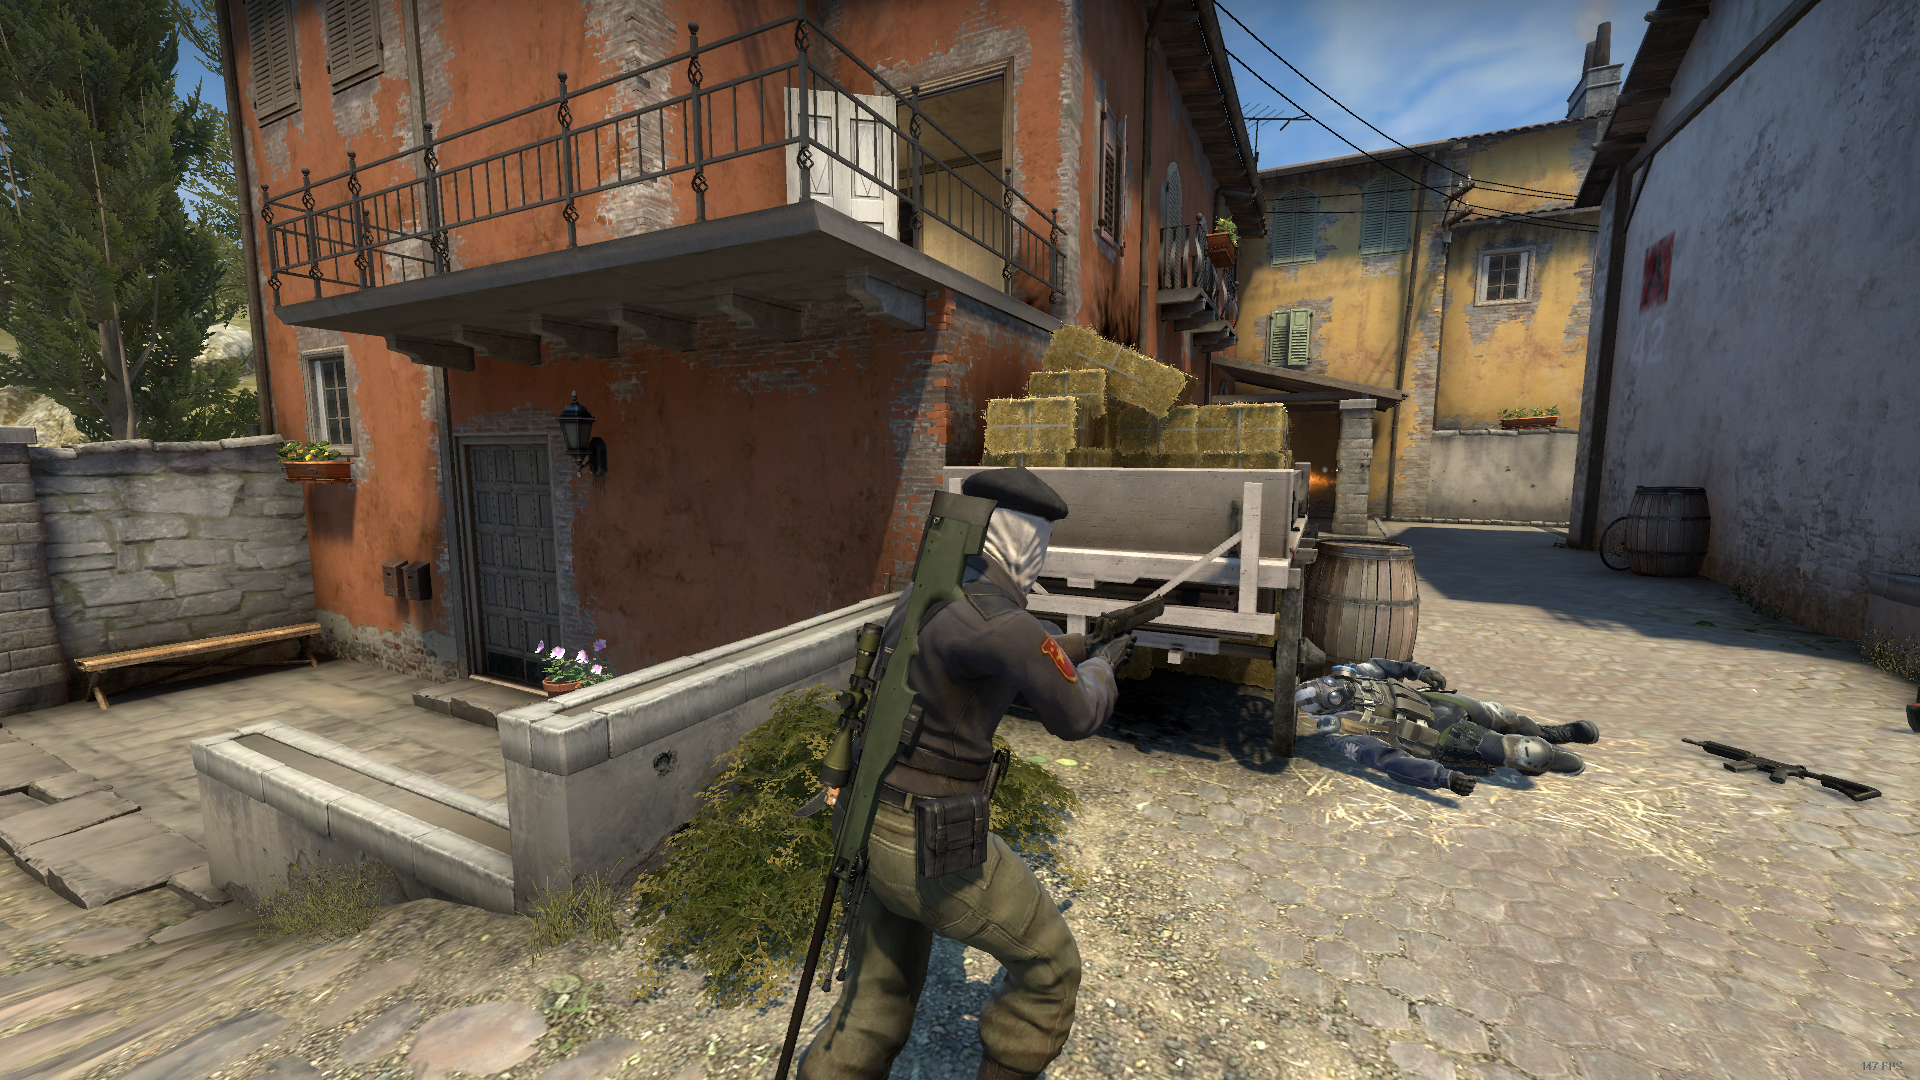ct: (1298, 658, 1598, 793)
t: (804, 468, 1133, 1080)
